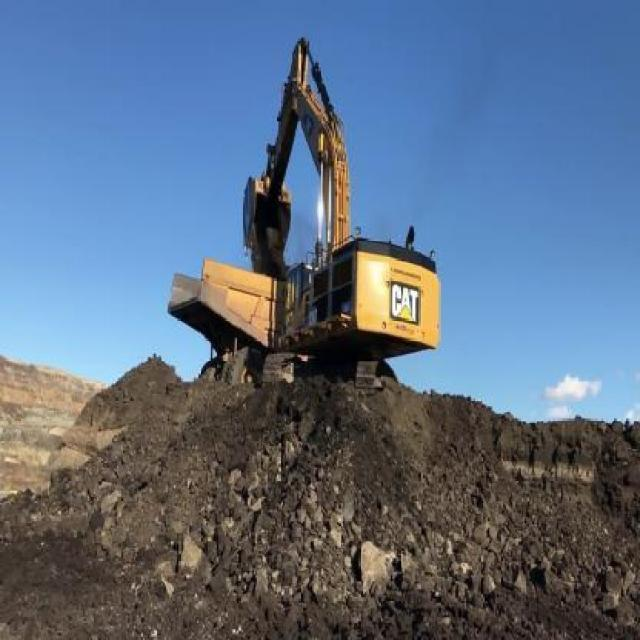Dump Truck: (165, 255, 284, 380)
Excavator: (228, 32, 444, 394)
